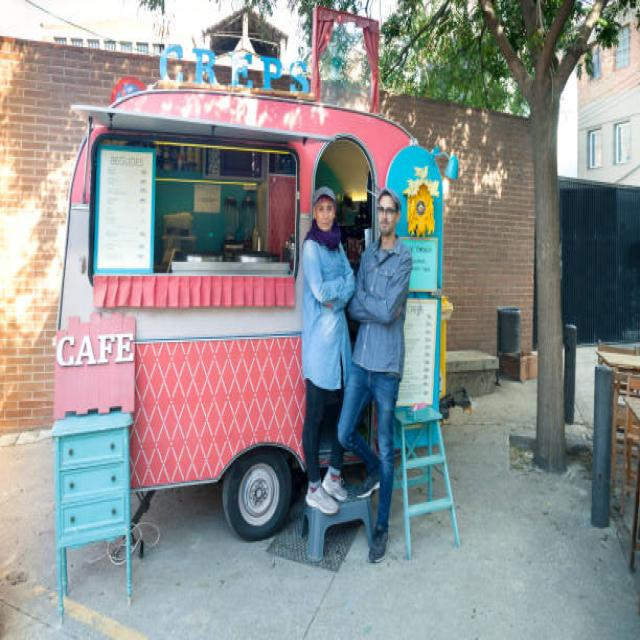Emperan: (51, 0, 452, 574)
